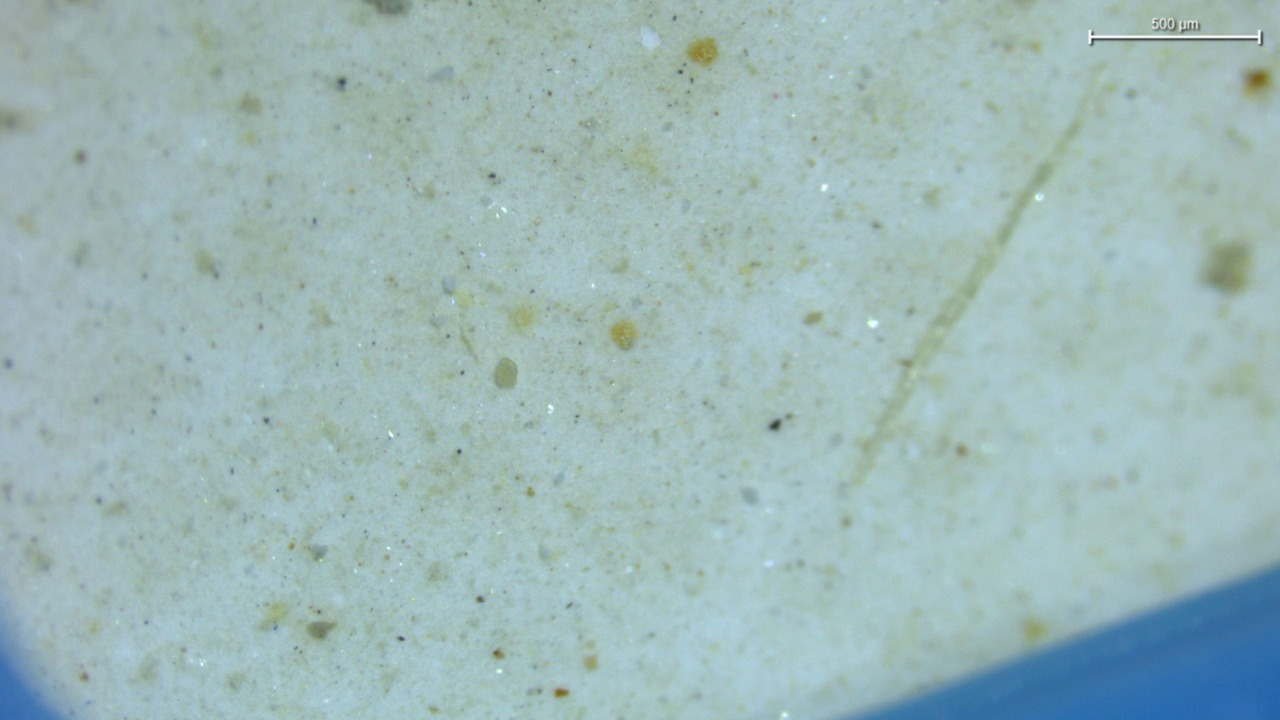microplastic_fragment: (495, 358, 517, 388), (442, 275, 457, 294)
